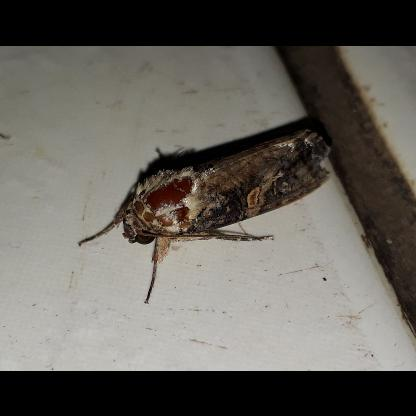Fall Armyworm Moth: (75, 125, 335, 308)
